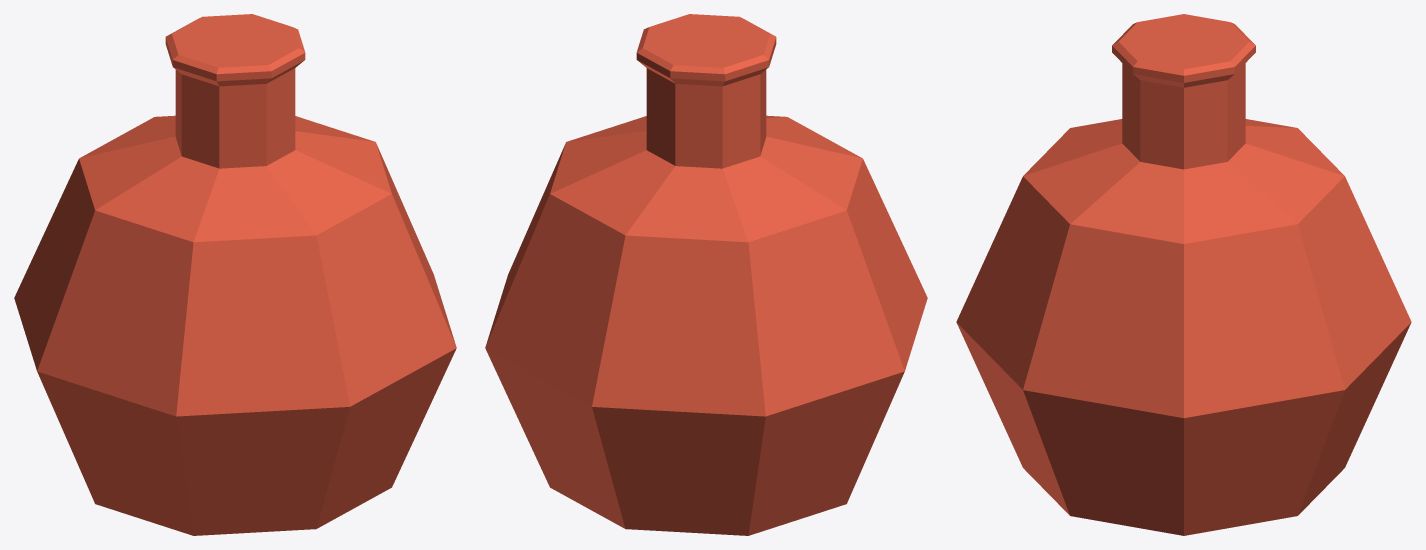
File: healing_potion.gltf
The picture shows the model from 3 angles, left to right: view 1: azimuth 30°, elevation 25°; view 2: azimuth 150°, elevation 25°; view 3: azimuth 270°, elevation 25°; orthographic projection.
Visible parts, largest first — view 1: Sphere; view 2: Sphere; view 3: Sphere.
Part boxes in pixels (bbox=[...]): Sphere: bbox=[14, 14, 456, 535]; Sphere: bbox=[485, 14, 927, 535]; Sphere: bbox=[956, 14, 1411, 535].
Bounding box in the file's own units: 0.1435 × 0.1692 × 0.1435.
